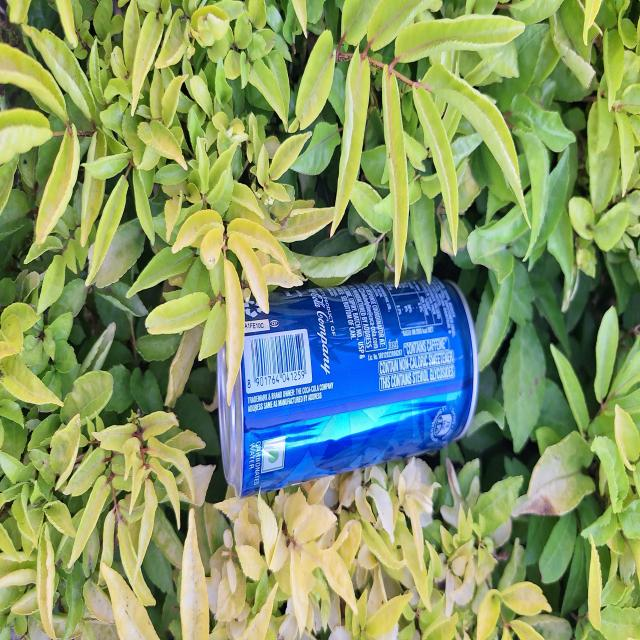Thums Up: (200, 266, 492, 499)
